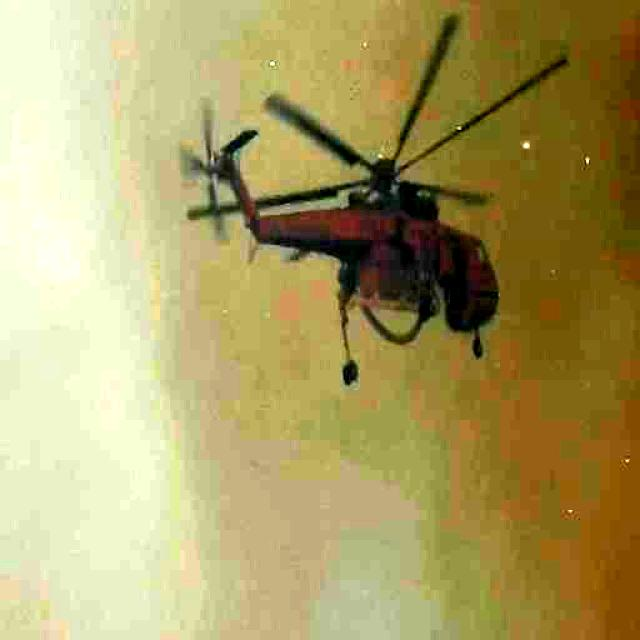drone: (180, 4, 570, 392)
